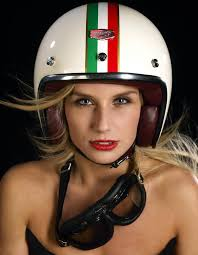helmet: (33, 2, 177, 159)
